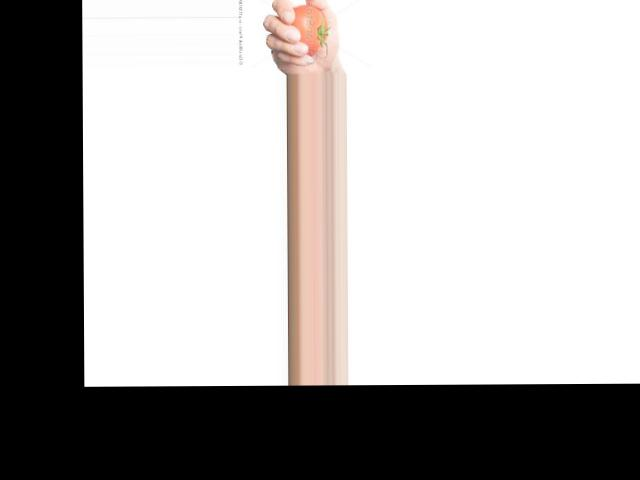tomato: (292, 4, 327, 55)
